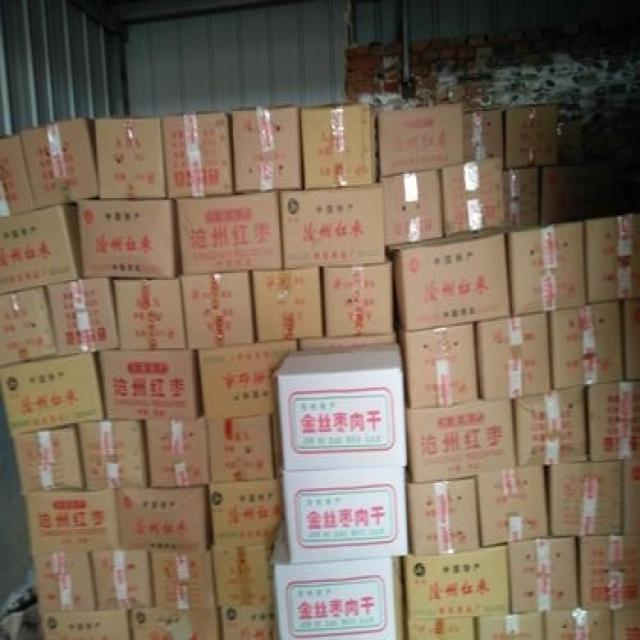box: (276, 341, 410, 471), (273, 519, 403, 640), (394, 230, 512, 333), (283, 468, 408, 563), (279, 179, 387, 271), (406, 398, 517, 481), (0, 352, 106, 437), (177, 191, 284, 275), (76, 200, 183, 280), (403, 544, 512, 621), (17, 116, 101, 210), (198, 340, 301, 416), (0, 201, 83, 295), (507, 220, 586, 317), (99, 350, 204, 420), (475, 309, 552, 399), (300, 101, 378, 189), (548, 300, 623, 391), (232, 104, 305, 196), (403, 321, 479, 408), (378, 102, 463, 179), (161, 113, 236, 200), (116, 486, 214, 551), (543, 461, 623, 539), (512, 387, 589, 468), (180, 271, 257, 350), (26, 488, 120, 551), (95, 118, 166, 200), (476, 466, 550, 544), (407, 474, 480, 553), (439, 155, 507, 239), (205, 411, 282, 485), (507, 536, 580, 614), (47, 278, 119, 357), (321, 263, 394, 340), (113, 275, 187, 350), (250, 270, 324, 345), (145, 410, 211, 488), (585, 212, 640, 305), (77, 420, 150, 490), (12, 427, 84, 495), (384, 169, 445, 249), (577, 532, 640, 609), (210, 480, 283, 544), (0, 287, 56, 365), (586, 381, 640, 461), (540, 166, 611, 224), (150, 548, 216, 608), (212, 544, 274, 606), (91, 551, 155, 611), (31, 551, 97, 609), (503, 102, 557, 169), (0, 133, 35, 220), (131, 606, 221, 638), (38, 609, 132, 638), (462, 102, 504, 164), (504, 167, 540, 230), (543, 608, 613, 640), (219, 602, 275, 640), (475, 613, 544, 640), (620, 297, 640, 382), (300, 333, 396, 350), (408, 618, 475, 640), (622, 461, 640, 532), (613, 609, 640, 638)
